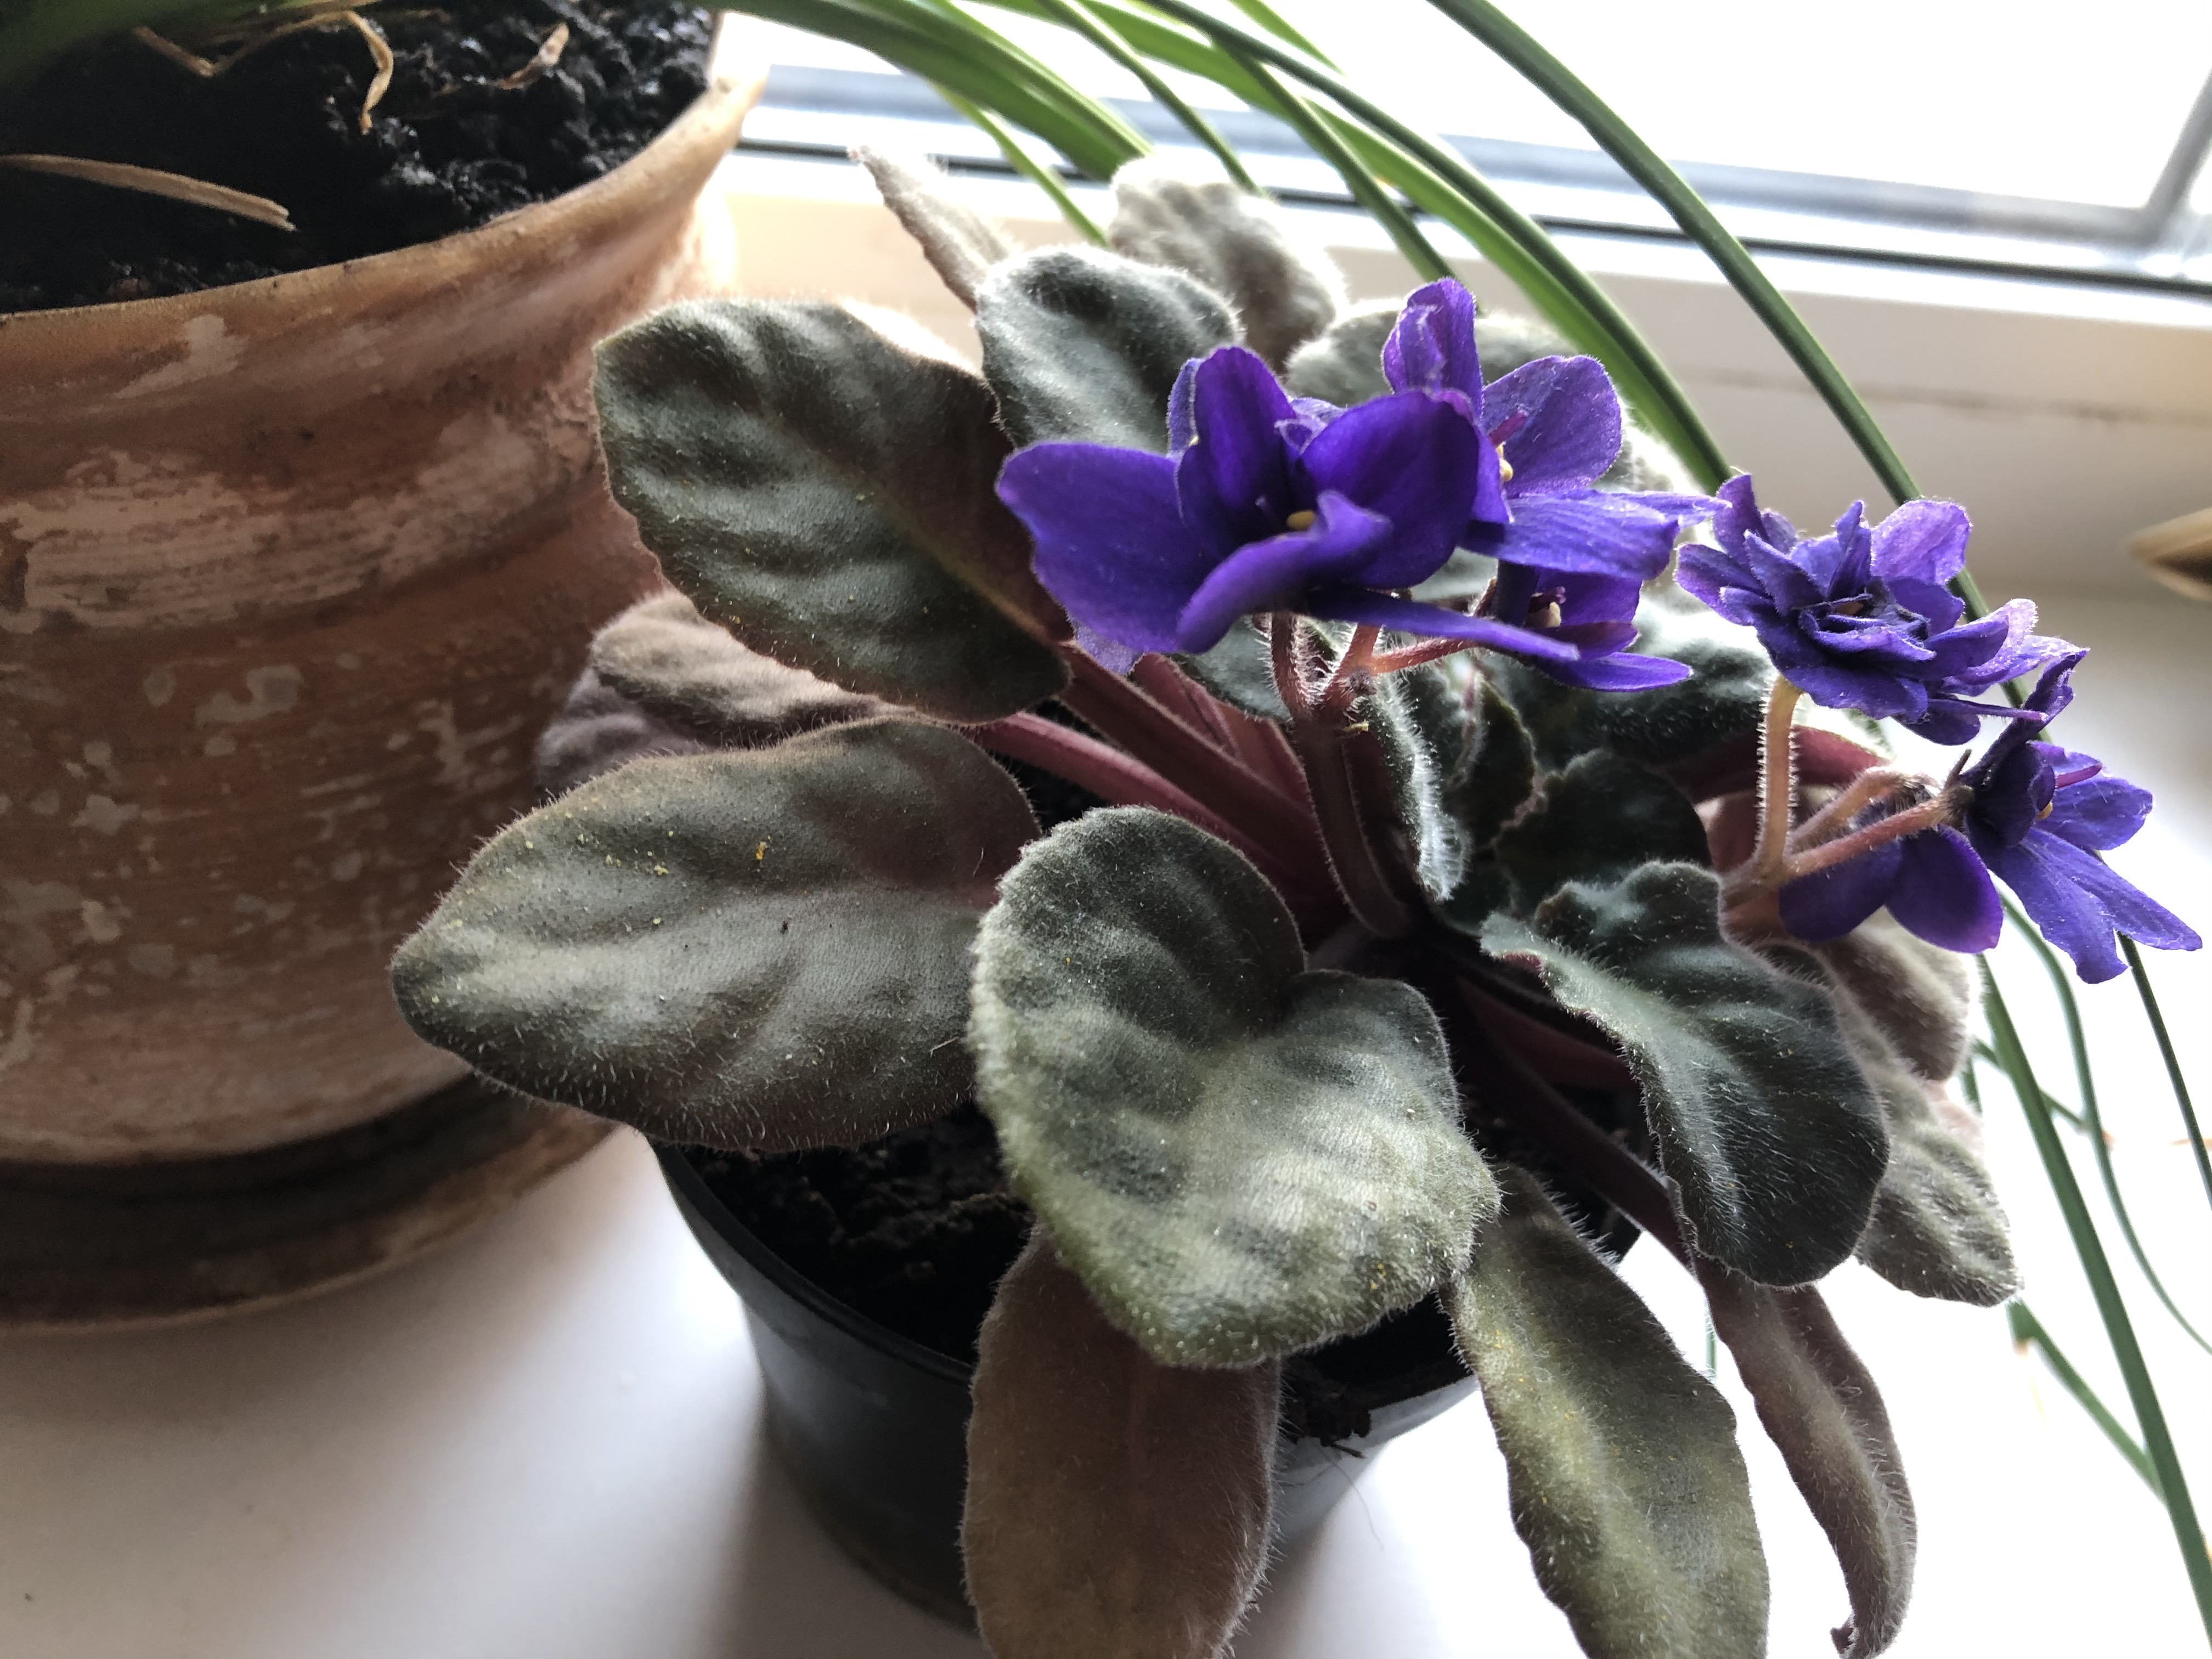ignore: (312, 105, 2188, 1643)
